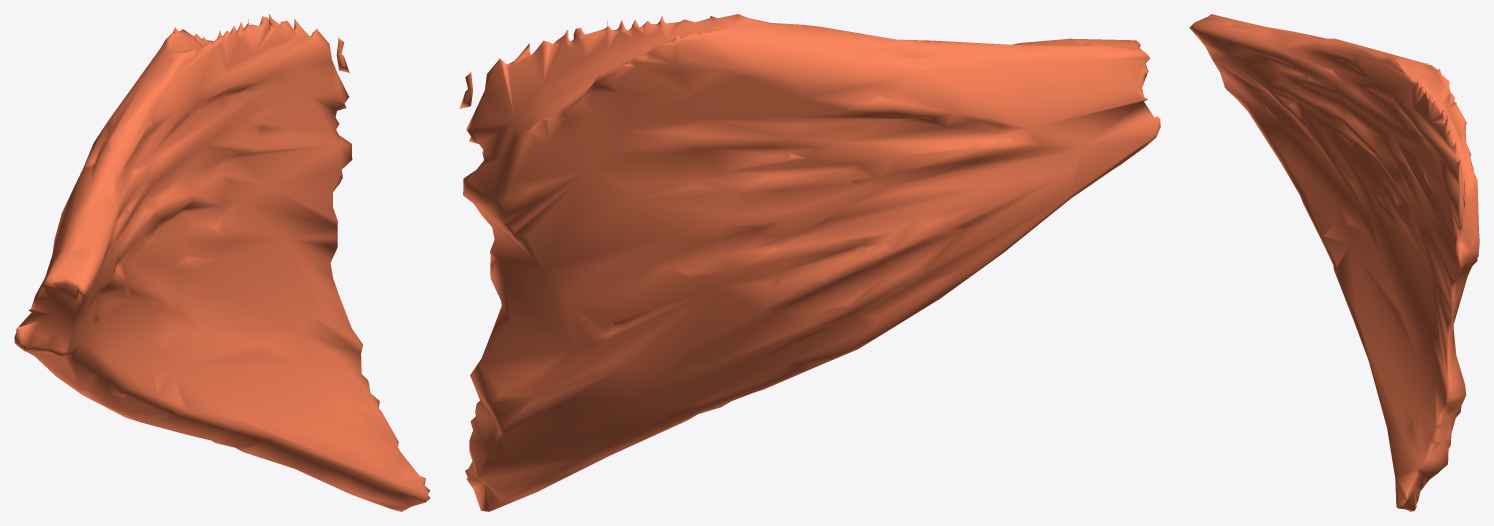
File: Coccygeus_muscle.r_Generated_Mesh_From_X3D.995.glb
3 views of the same model, side by side, from view 1: azimuth 30°, elevation 25°; view 2: azimuth 150°, elevation 25°; view 3: azimuth 270°, elevation 25° (orthographic). The views are drawn at different scales.
Parts seen in each view (by area): view 1: Coccygeus_muscle.r_Generated_Mesh_From_X3D.995; view 2: Coccygeus_muscle.r_Generated_Mesh_From_X3D.995; view 3: Coccygeus_muscle.r_Generated_Mesh_From_X3D.995.
Part boxes in pixels (box(x1,y1,x2,y2)): Coccygeus_muscle.r_Generated_Mesh_From_X3D.995: box(14, 14, 430, 511); Coccygeus_muscle.r_Generated_Mesh_From_X3D.995: box(459, 14, 1160, 511); Coccygeus_muscle.r_Generated_Mesh_From_X3D.995: box(1189, 14, 1479, 511).
Bounding box in the file's own units: 0.0443 × 0.041 × 0.0289.
